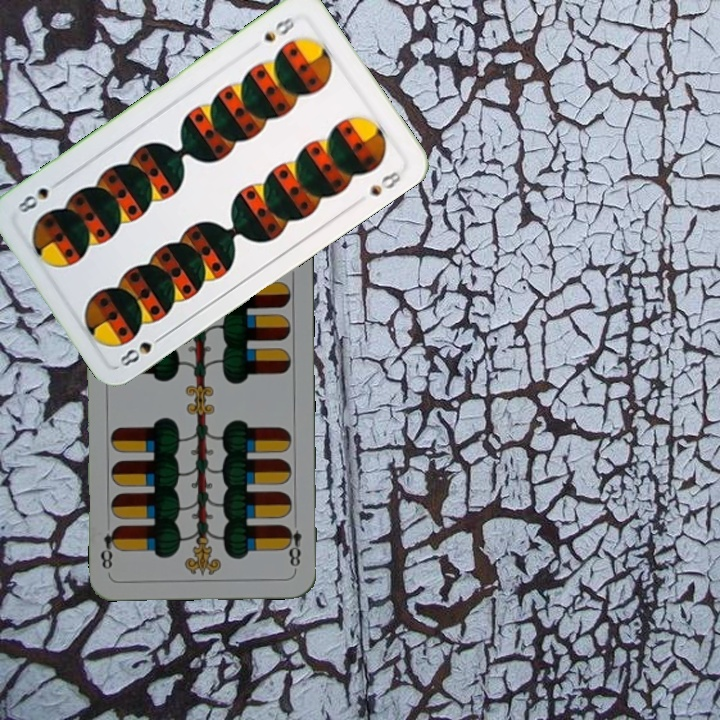E8: (281, 513, 304, 572)
S8: (115, 328, 169, 369), (259, 13, 297, 45)
